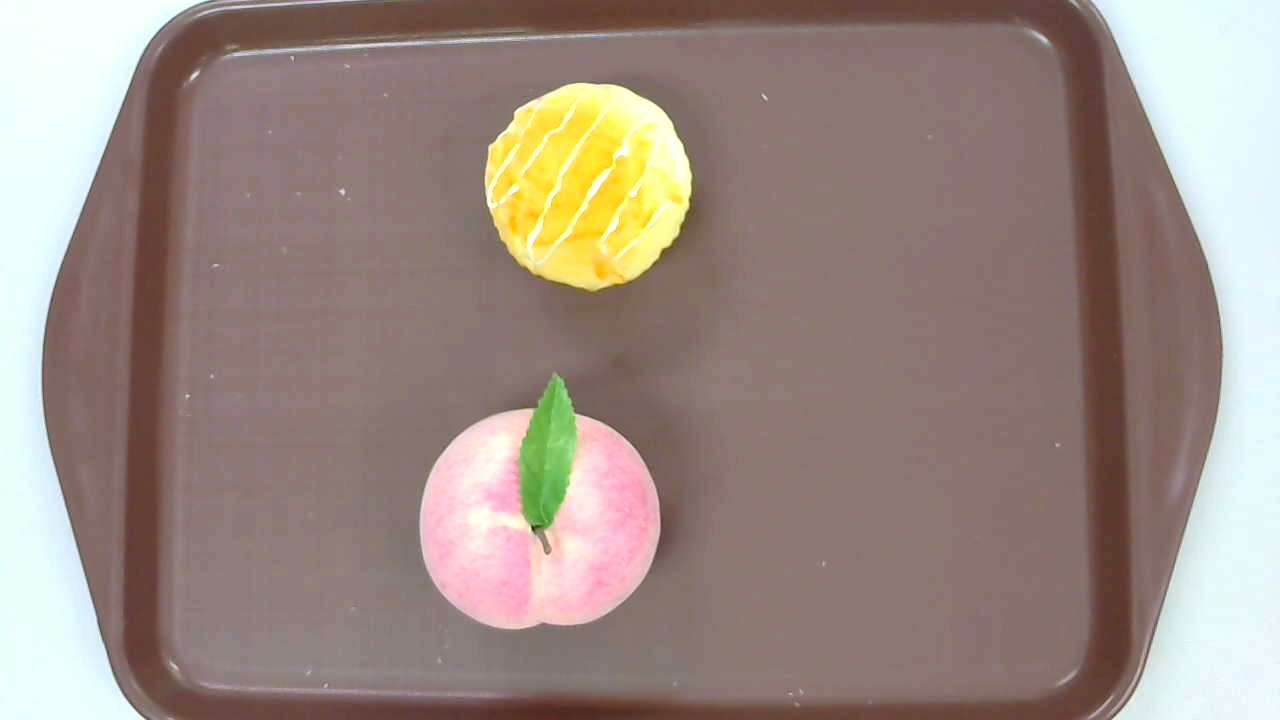cupcake: (482, 81, 694, 292)
peach: (418, 371, 660, 629)
